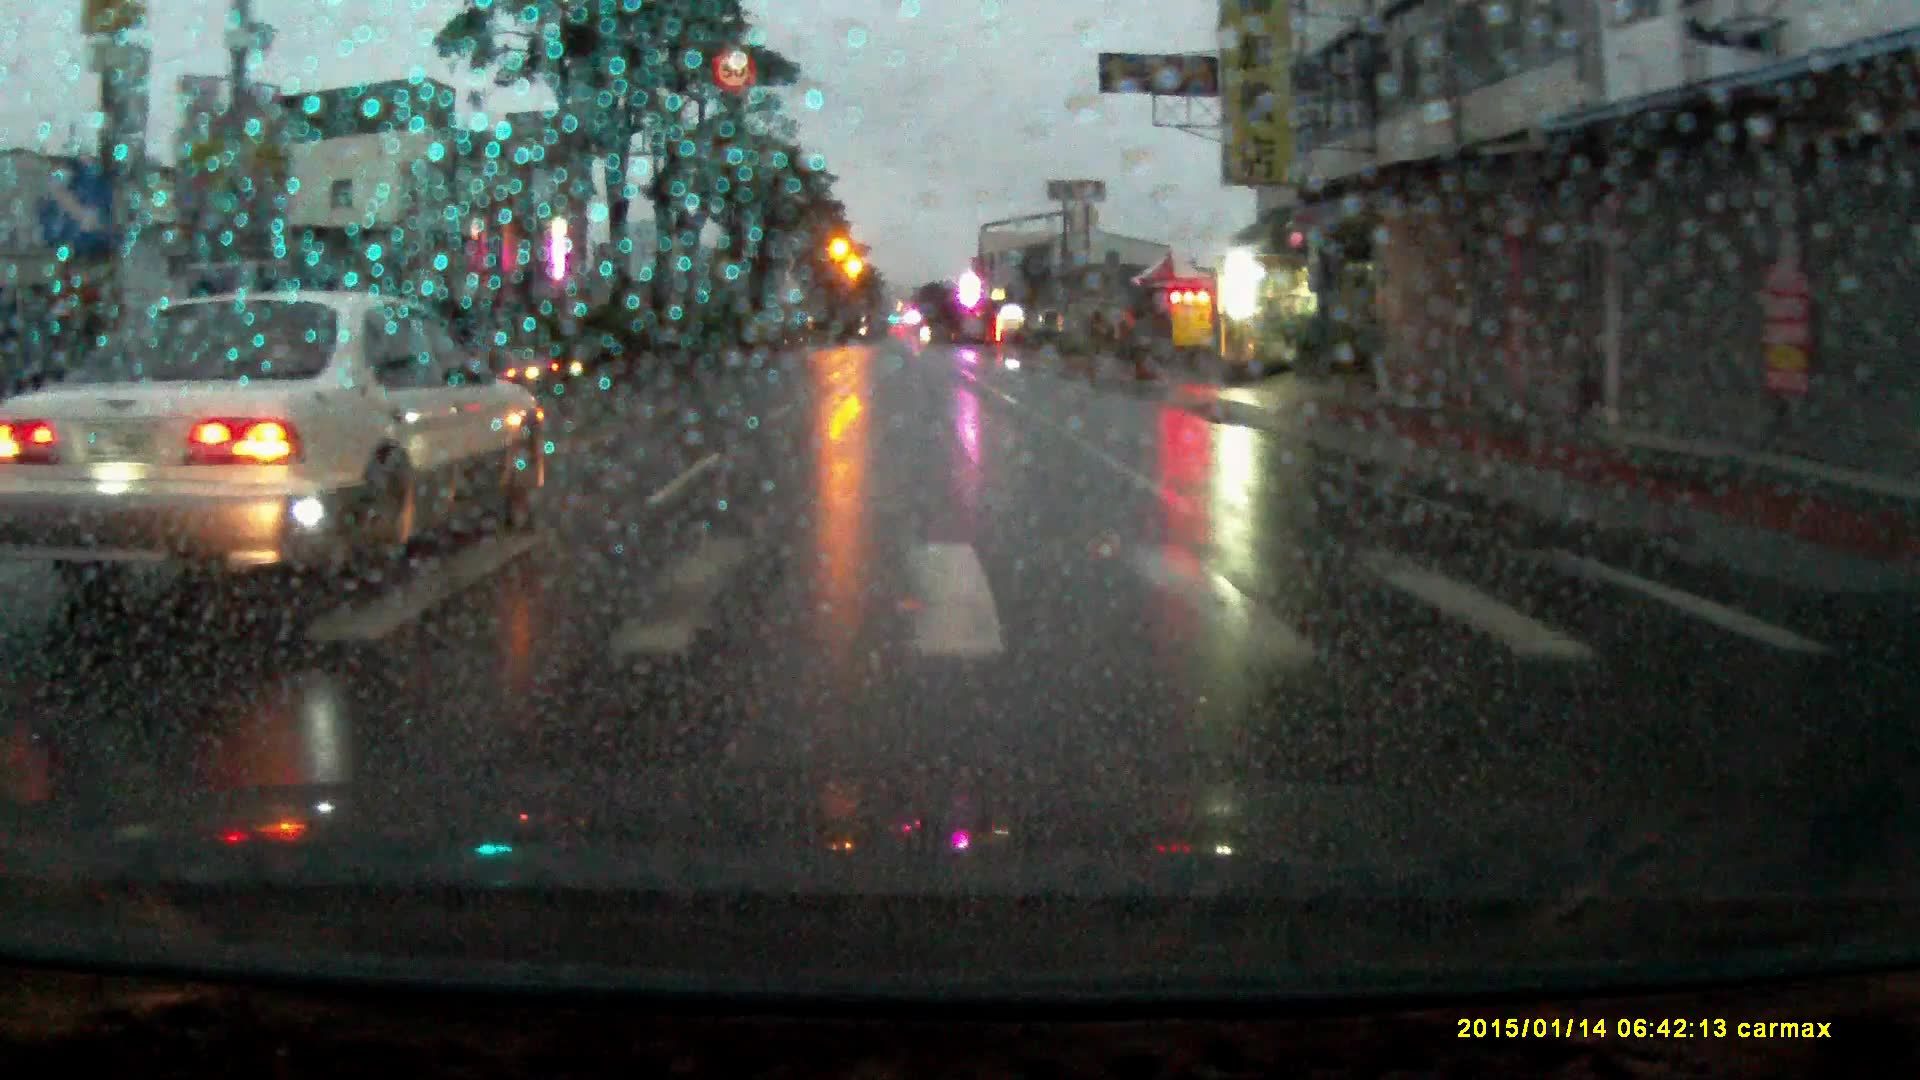vehicle: (9, 281, 538, 607)
